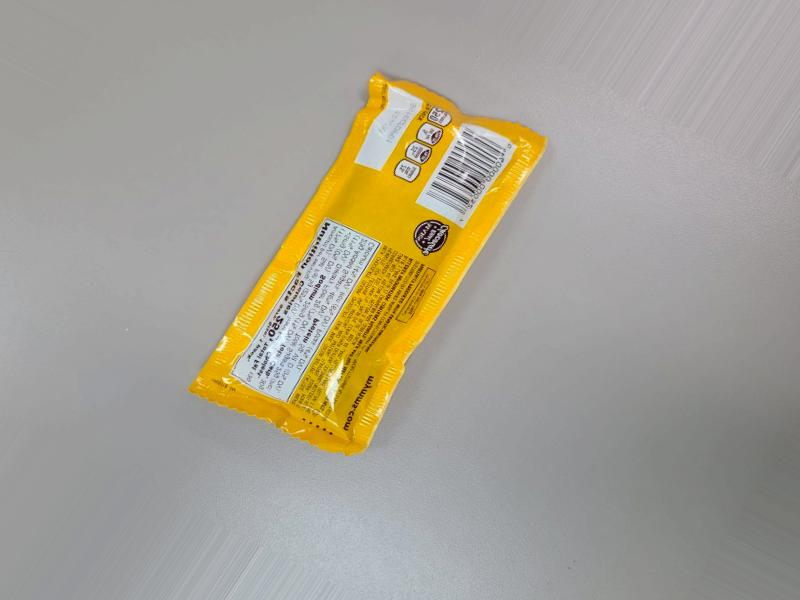m&m: (182, 74, 542, 453)
